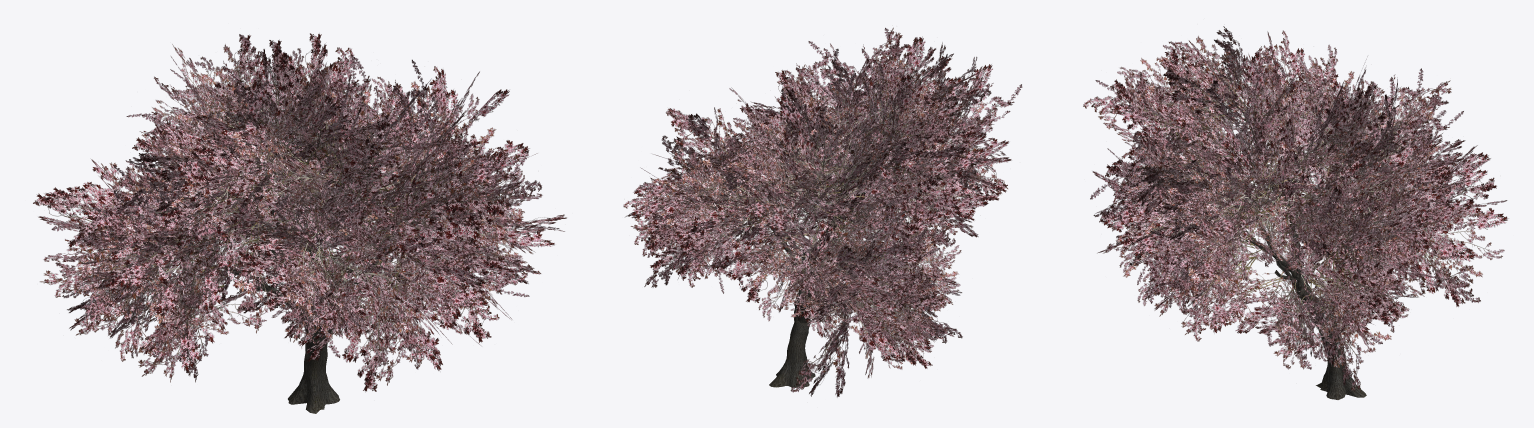
Rendered from cerisier-1.glb.
The picture shows the model from 3 angles, left to right: view 1: azimuth 30°, elevation 25°; view 2: azimuth 150°, elevation 25°; view 3: azimuth 270°, elevation 25°; orthographic projection. The views are drawn at different scales.
Parts seen in each view (by area): view 1: Object_4, Object_7, Object_5, Object_3, Object_6, Object_8, Object_2; view 2: Object_4, Object_6, Object_5, Object_7, Object_3, Object_8, Object_2; view 3: Object_5, Object_4, Object_6, Object_3, Object_7, Object_8, Object_2.
Boxes of the visible parts, x1,y1,x2,y2 form: Object_4: (62,44,524,361); Object_7: (33,33,566,391); Object_5: (43,47,564,369); Object_3: (40,44,540,385); Object_6: (38,44,554,371); Object_8: (51,34,559,357); Object_2: (209,203,389,413); Object_4: (632,57,1005,378); Object_6: (631,37,1011,397); Object_5: (623,37,996,392); Object_7: (646,32,1007,396); Object_3: (625,27,1007,378); Object_8: (640,28,1022,348); Object_2: (767,188,870,388); Object_5: (1083,30,1480,354); Object_4: (1093,36,1507,369); Object_6: (1092,31,1508,366); Object_3: (1103,26,1454,392); Object_7: (1099,49,1496,335); Object_8: (1090,48,1476,369); Object_2: (1239,158,1366,399).
Size of the model in its own units: 10.73 by 9.23 by 10.69.
7 materials, 7 textured.
